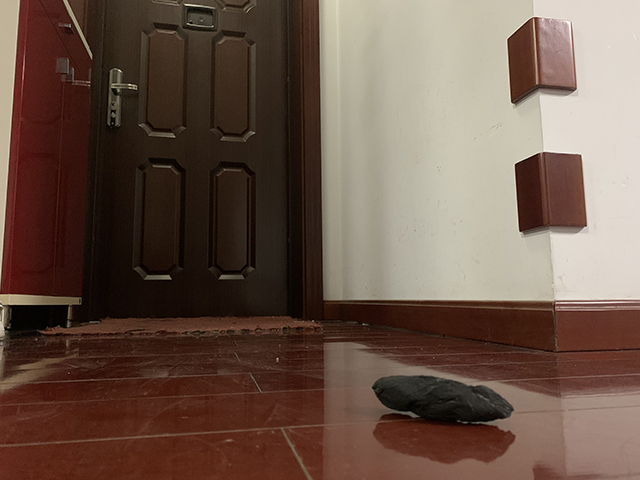cabinet: (1, 1, 94, 330)
carpet: (37, 315, 325, 337)
feces: (371, 373, 515, 424)
